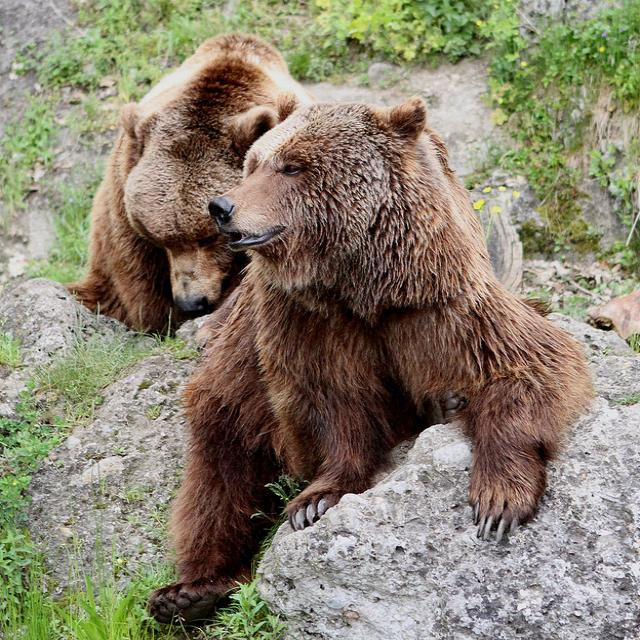Bear: (208, 99, 588, 550), (81, 26, 306, 308)
